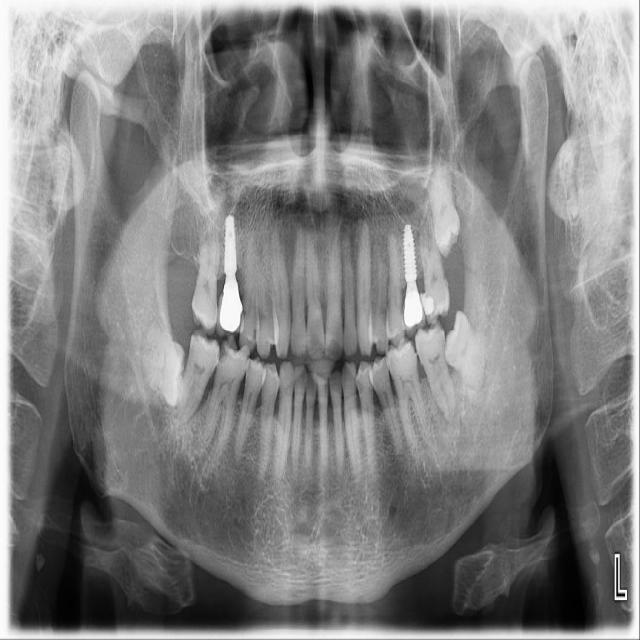52: (423, 275, 451, 326), (218, 338, 232, 364)
73: (620, 604, 632, 620)
BioHorizons Implant: (416, 209, 452, 325)
BioLife Implant: (421, 148, 466, 260)
Biomet 3i Implant: (425, 307, 506, 398)
Blue Sky Bio Implant: (411, 318, 459, 428)
Caries: (189, 211, 223, 338)
Implant: (172, 327, 225, 426)
Keystone Dental Implant: (138, 322, 188, 408)
